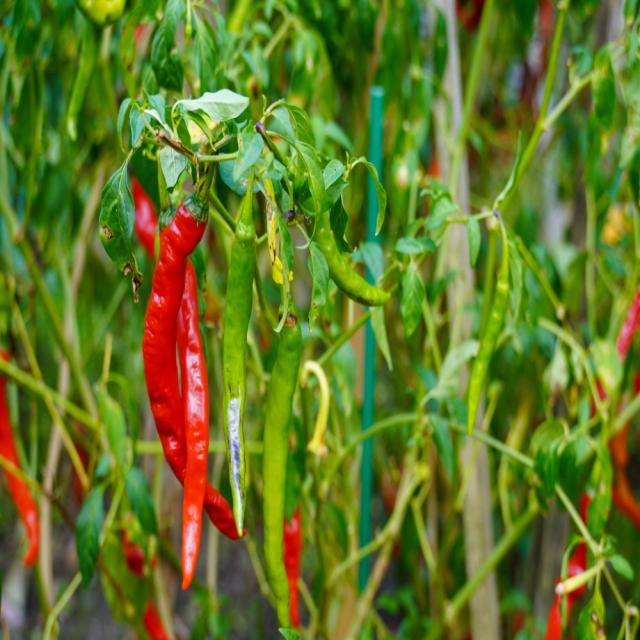Ripe: (142, 204, 206, 483), (176, 260, 209, 588), (284, 506, 301, 627), (204, 482, 239, 539), (132, 180, 158, 256)
Unripe: (262, 315, 302, 628), (222, 167, 256, 533), (468, 238, 510, 434), (314, 213, 390, 305), (66, 21, 101, 141)
